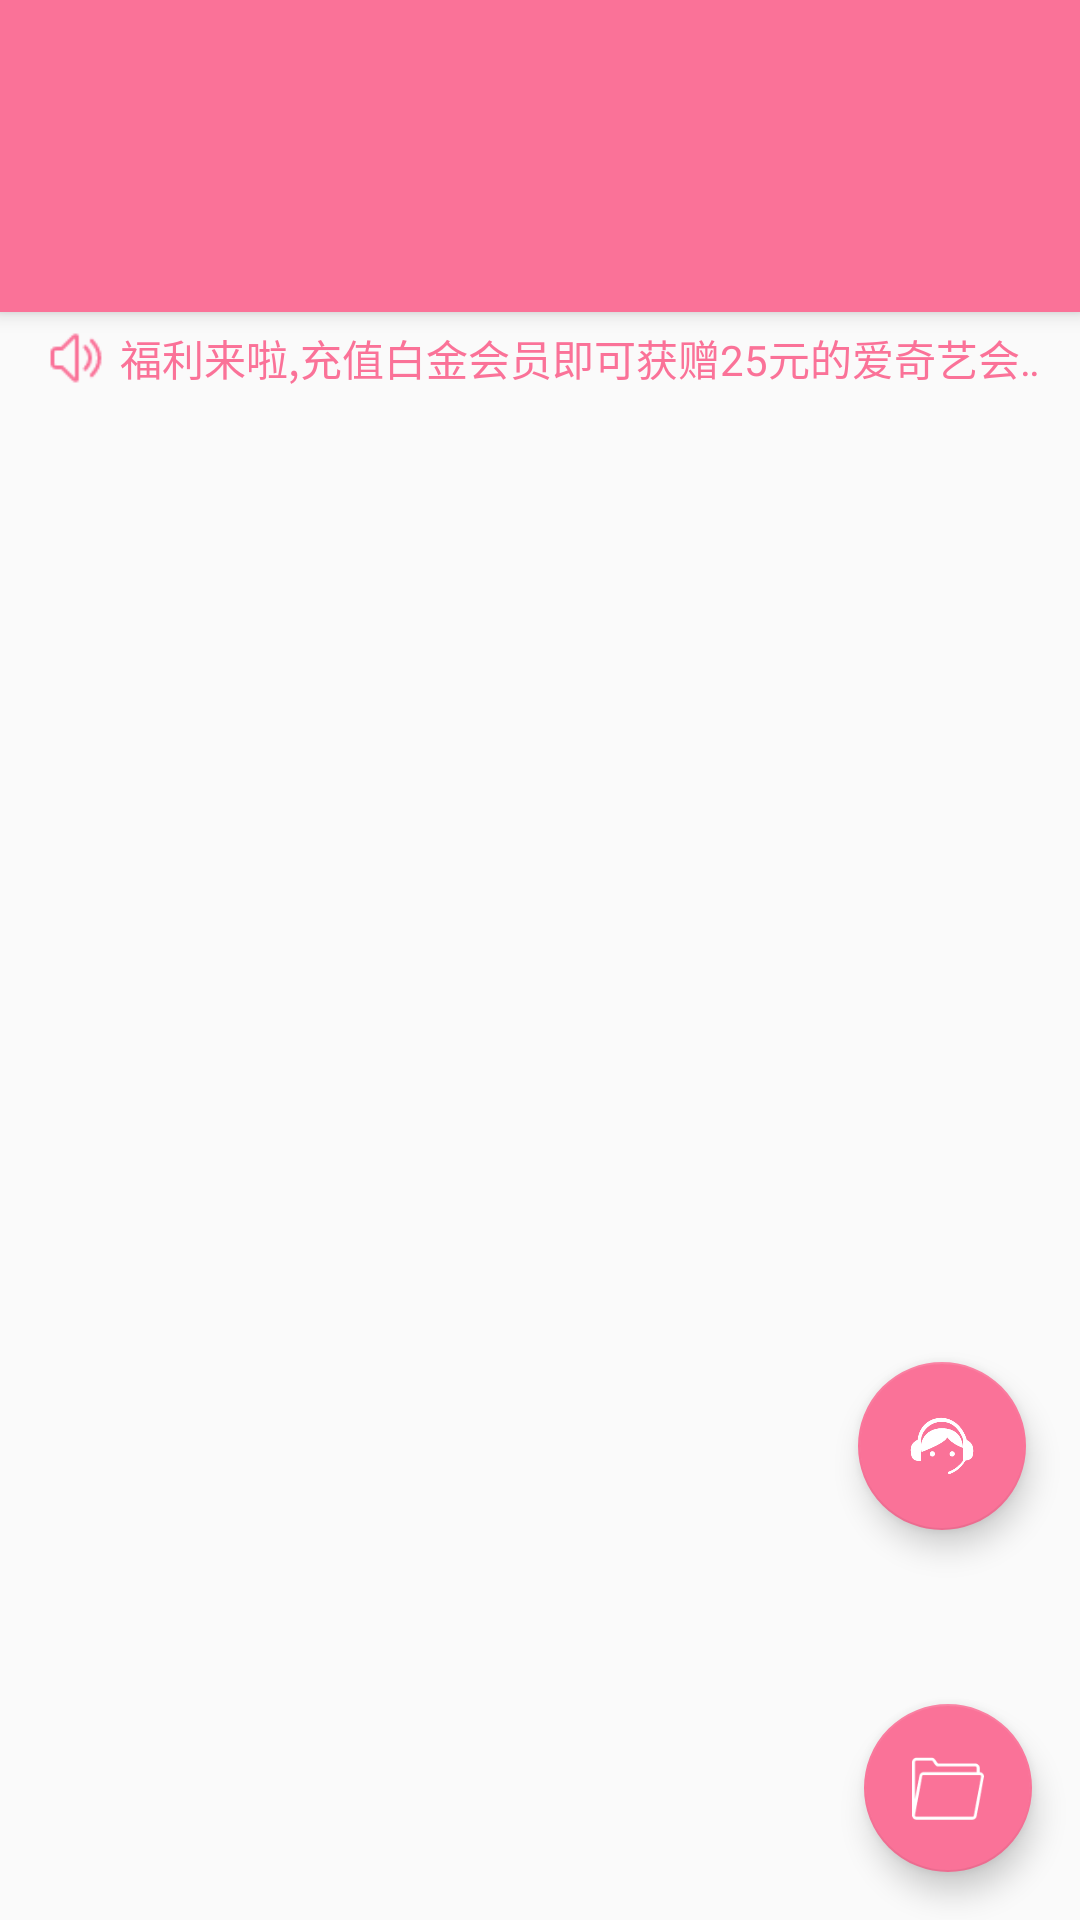

Named icons in this screenshot (1080px×1920px) and their bounding boxes, [x1, y1, x2, y2]:
kefu: [858, 1362, 1026, 1530]
notification: [50, 333, 102, 383]
